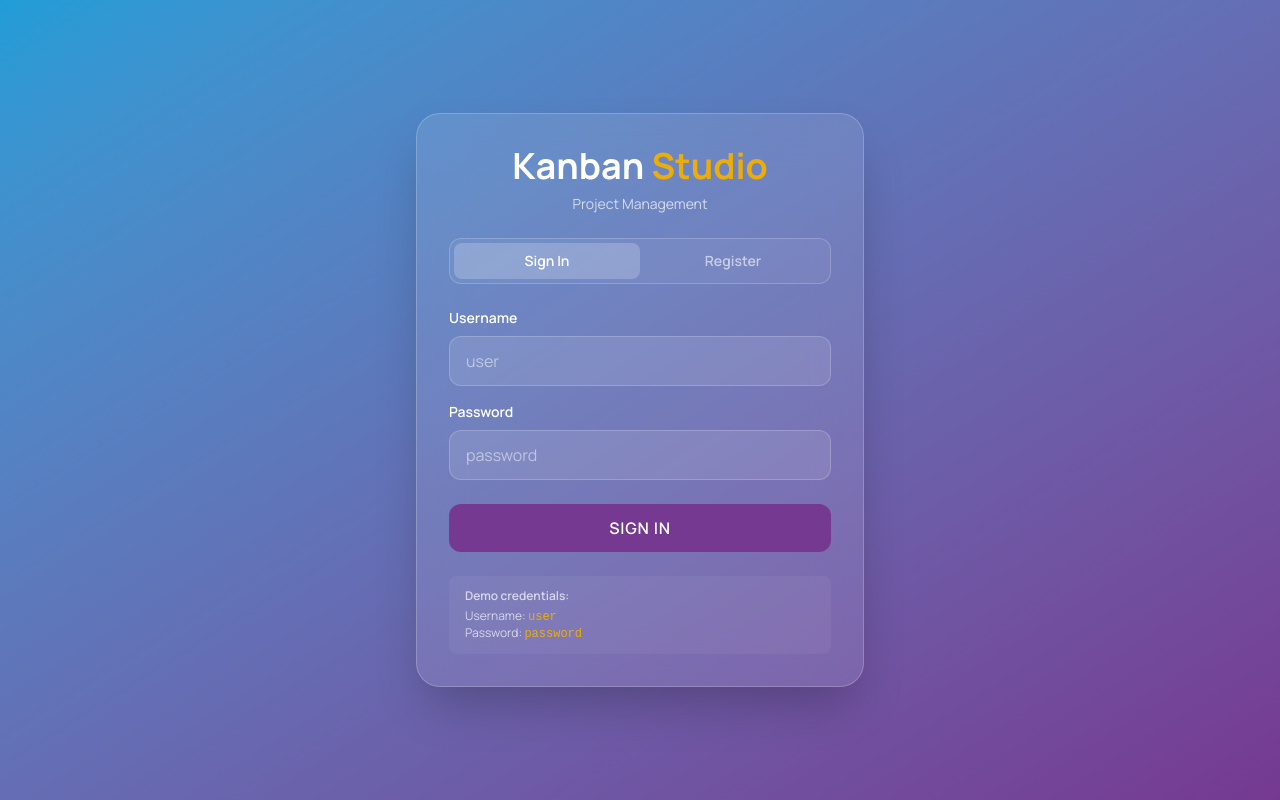
Test case: LoginForm › shows validation error when passwords do not match
Click the button "Register" at (733, 261), box [640,243,826,279]
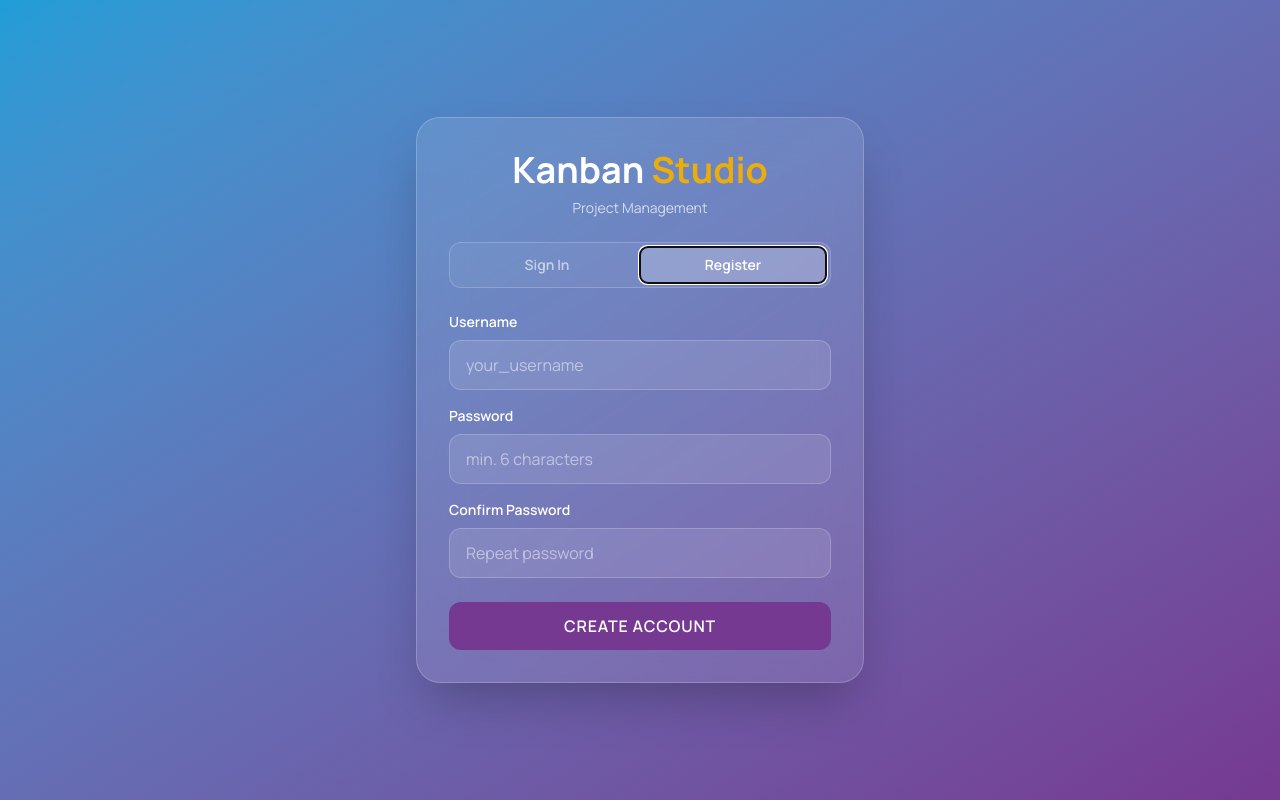
Type "newuser" into the field labelled "Username" at (640, 365), box [449,340,831,390]
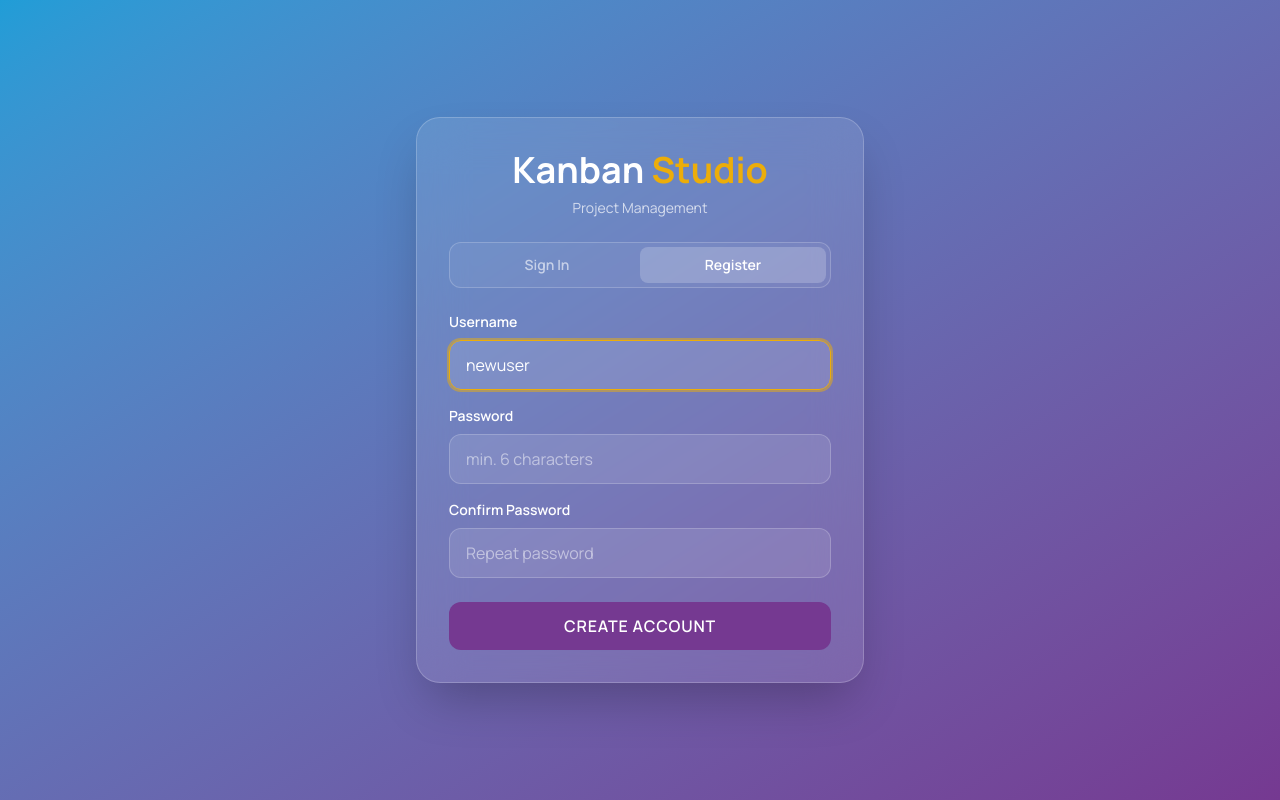
Type "password123" into the password field labelled "Password" at (640, 459), box [449,434,831,484]
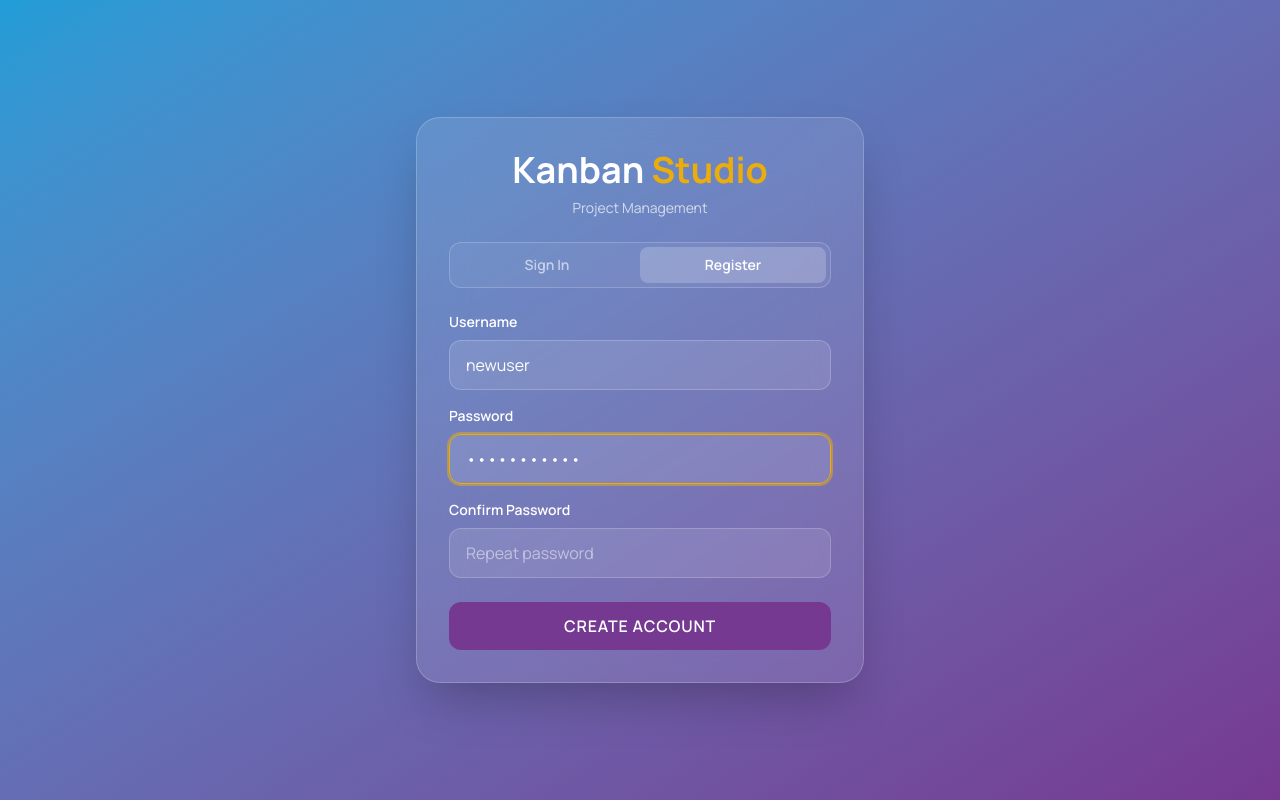
Type "different" into the password field labelled "Confirm Password" at (640, 553), box [449,528,831,578]
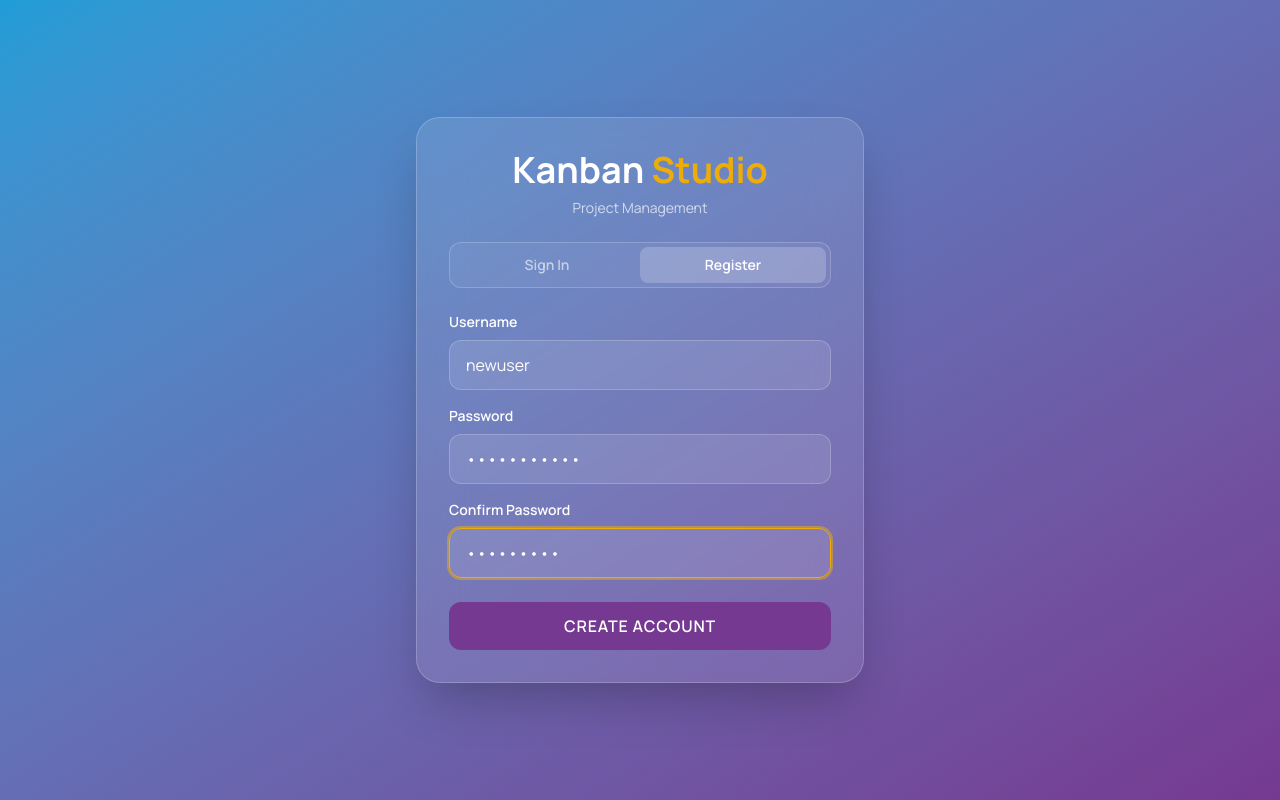
Click the button "Create Account" at (640, 626), box [449,602,831,650]
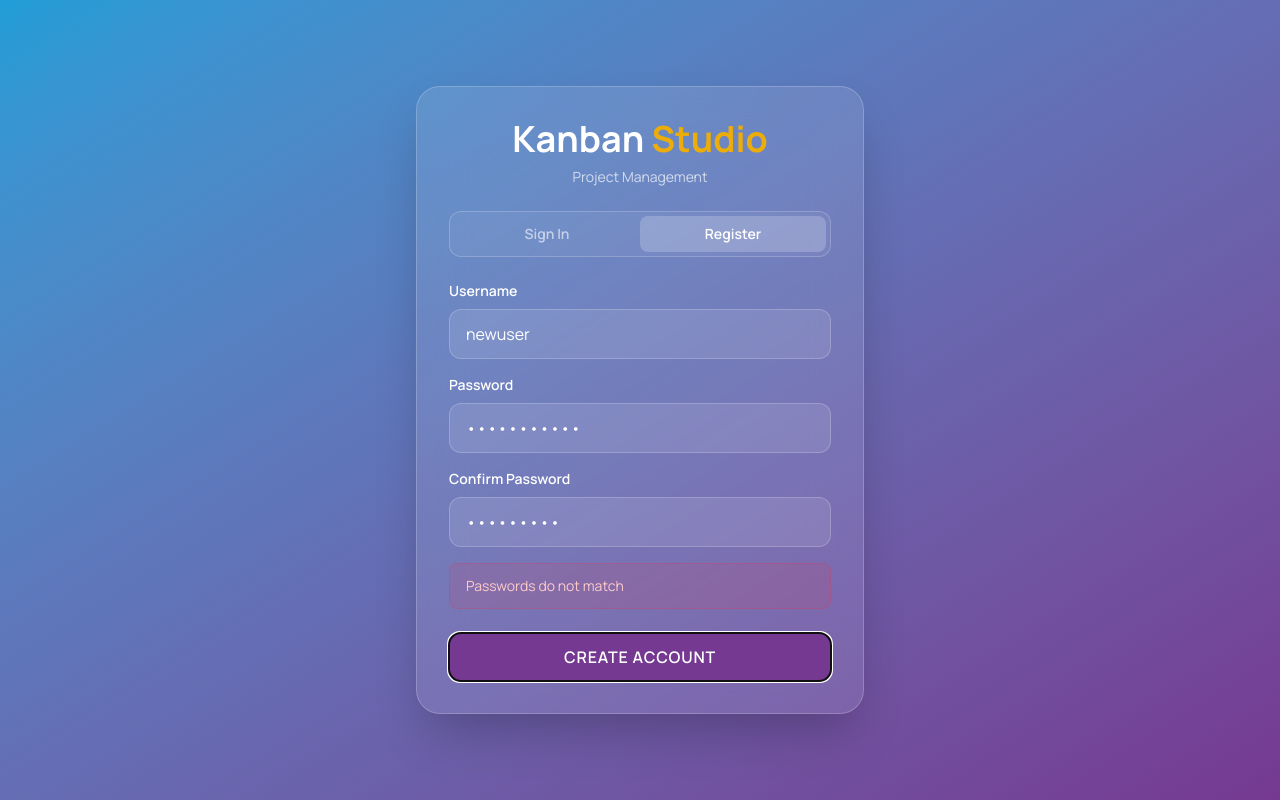
Now the text "Passwords do not match" is shown, box [449,563,831,609]
